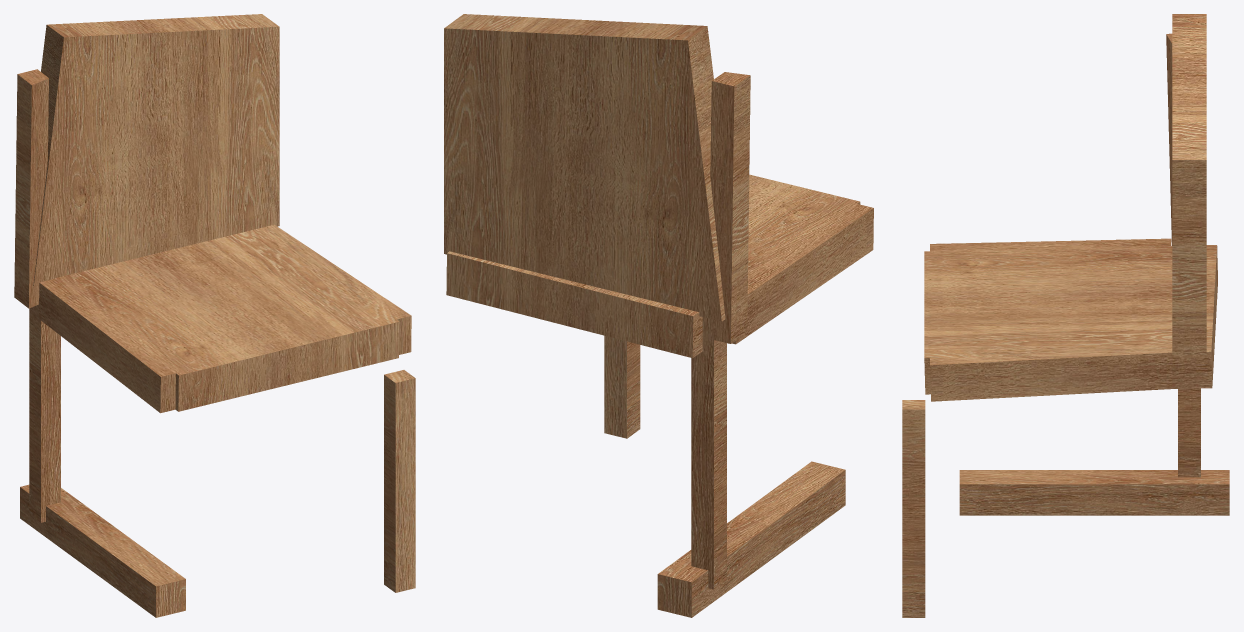
File: 41160_deepcad.glb
The picture shows the model from 3 angles, left to right: view 1: azimuth 30°, elevation 25°; view 2: azimuth 150°, elevation 25°; view 3: azimuth 270°, elevation 25°; orthographic projection. The views are drawn at different scales.
Visible parts, largest first — view 1: test_cmd_41160_pred; view 2: test_cmd_41160_pred; view 3: test_cmd_41160_pred.
Boxes of the visible parts, left/top/right/bottom form: test_cmd_41160_pred: left=14, top=14, right=415, bottom=617; test_cmd_41160_pred: left=444, top=14, right=873, bottom=617; test_cmd_41160_pred: left=902, top=14, right=1229, bottom=617.
Size of the model in its own units: 0.5417 by 1 by 0.5938.
1 material, 1 textured.
